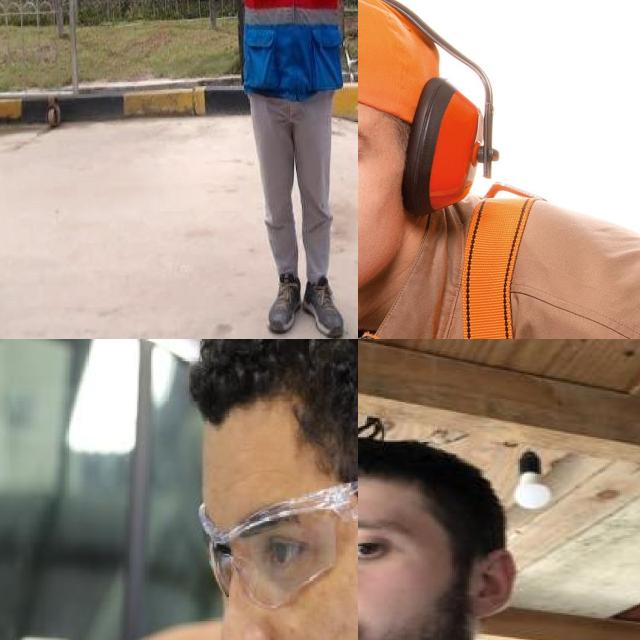Ear-protection: (358, 32, 496, 305)
No_Ear-Protection: (450, 536, 530, 625)
No_Glasses: (358, 518, 437, 590)
boots: (303, 278, 346, 338), (267, 268, 301, 339)
face_nomask: (186, 501, 338, 640), (358, 512, 437, 640)
glasses: (192, 452, 358, 609)
head_nohelmet: (179, 339, 358, 437), (358, 434, 439, 509)
person: (358, 0, 640, 339), (126, 0, 358, 339), (358, 445, 640, 640)
vest: (238, 0, 346, 95)
